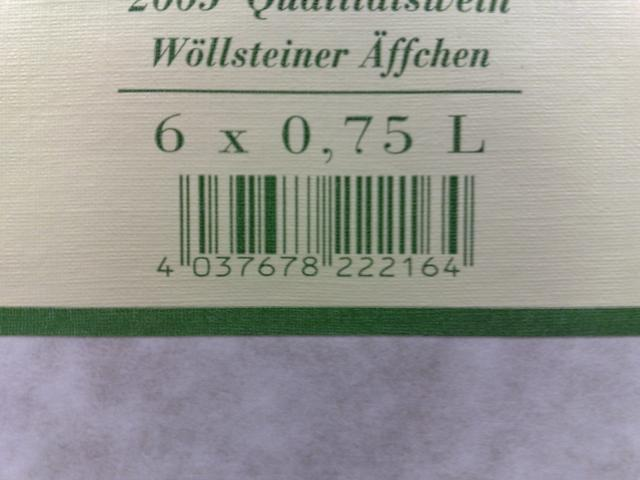Barcode: (144, 162, 497, 292)
